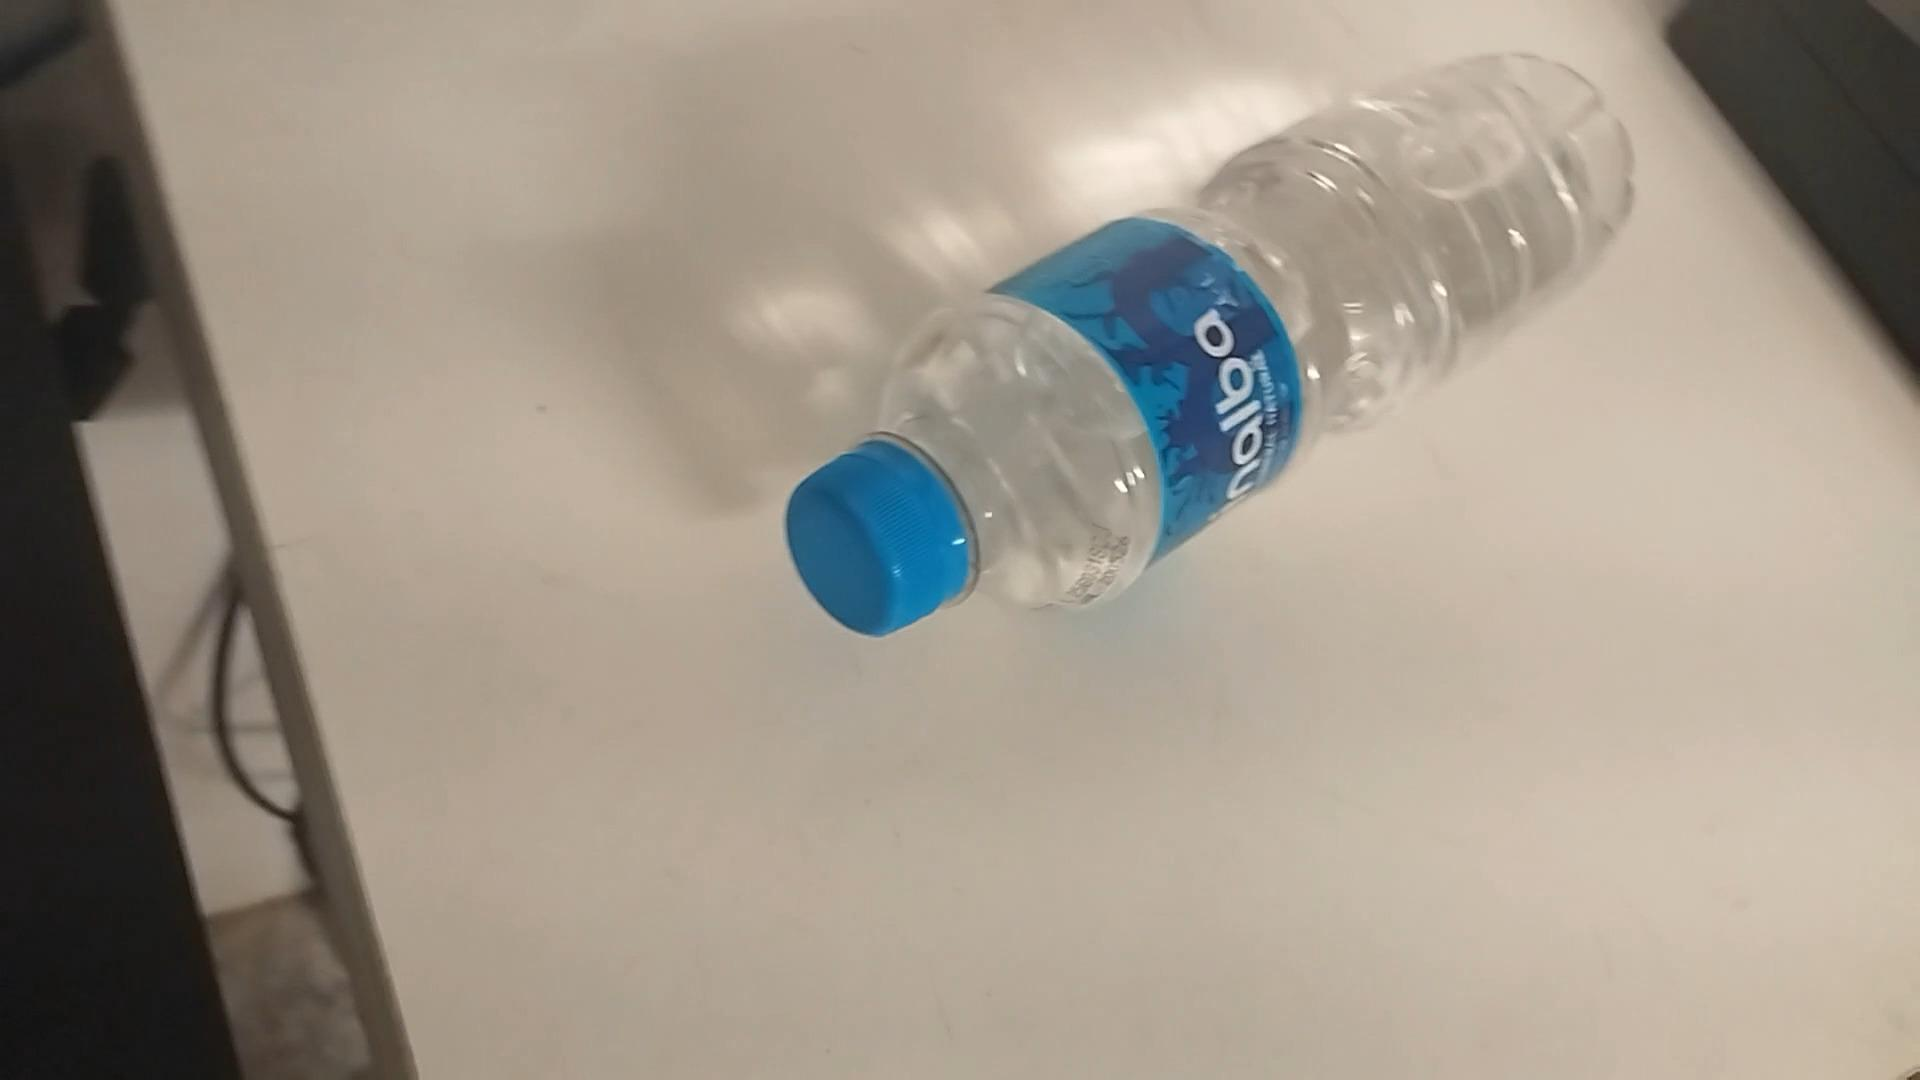agua: (785, 51, 1639, 651)
